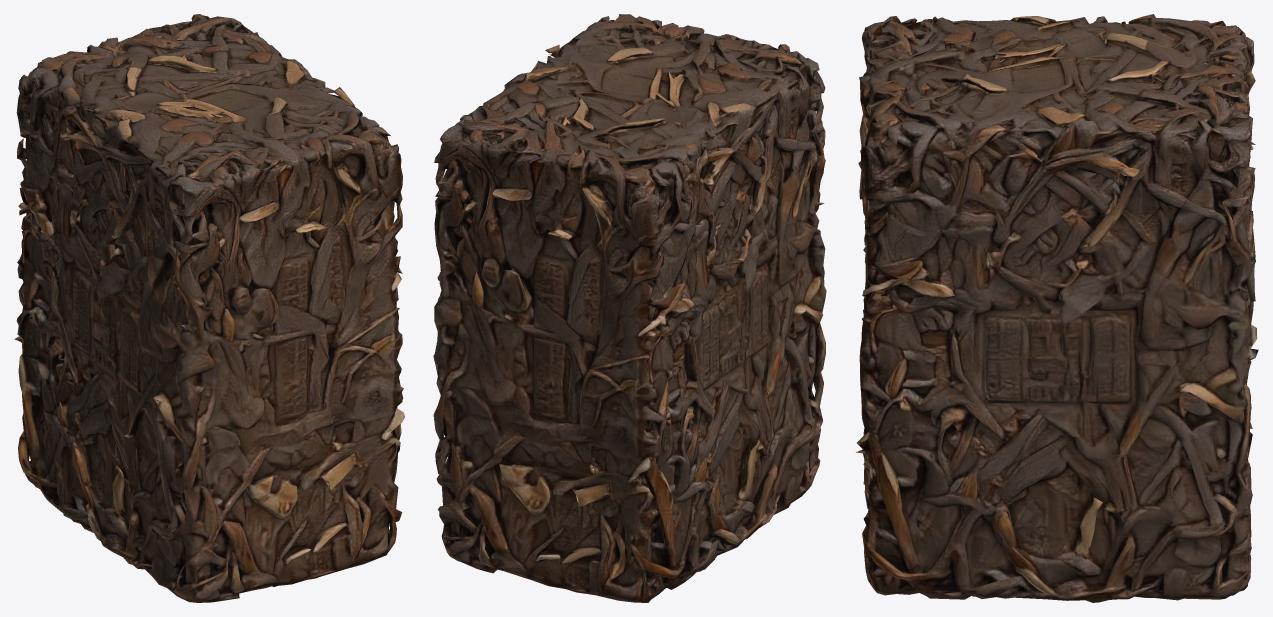
The model's file is brick-tea.glb.
3 renders of one model, left to right at view 1: azimuth 30°, elevation 25°; view 2: azimuth 150°, elevation 25°; view 3: azimuth 270°, elevation 25°, orthographic. The views are drawn at different scales.
Visible parts, largest first — view 1: tripo_node_15415016-294c-4d5d-9a69-3699ff2831b2; view 2: tripo_node_15415016-294c-4d5d-9a69-3699ff2831b2; view 3: tripo_node_15415016-294c-4d5d-9a69-3699ff2831b2.
Boxes of the visible parts, box(x1,y1,x2,y2) form: tripo_node_15415016-294c-4d5d-9a69-3699ff2831b2: box(14, 14, 404, 602); tripo_node_15415016-294c-4d5d-9a69-3699ff2831b2: box(433, 14, 826, 602); tripo_node_15415016-294c-4d5d-9a69-3699ff2831b2: box(856, 14, 1258, 602).
Bounding box in the file's own units: 0.5578 × 1 × 0.7464.
Materials: 1 (1 with a texture image).
